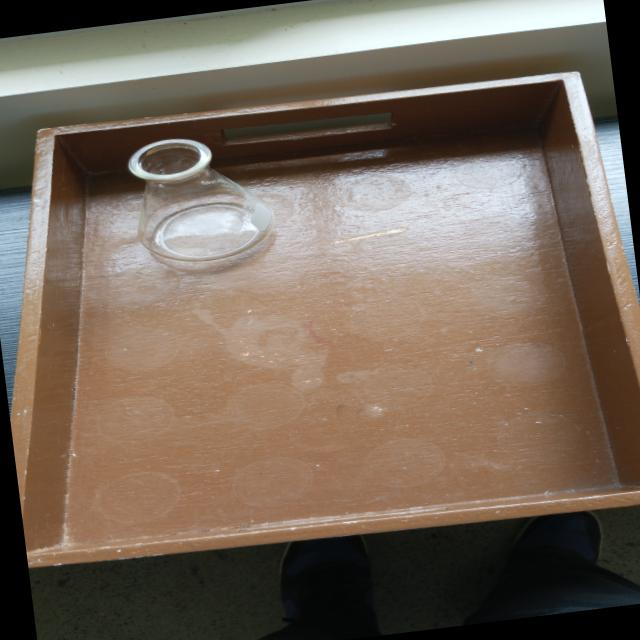erlenmeyer_flask: (107, 122, 290, 279)
